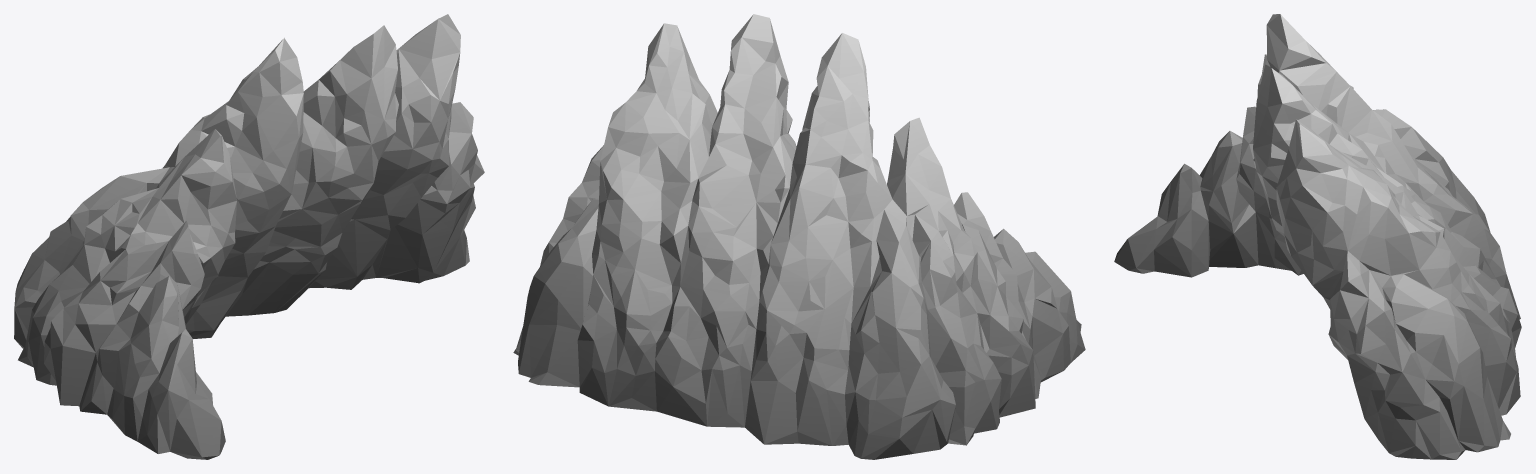
Rendered from mountain.glb.
3 renders of one model, left to right at view 1: azimuth 30°, elevation 25°; view 2: azimuth 150°, elevation 25°; view 3: azimuth 270°, elevation 25°, orthographic. The views are drawn at different scales.
Parts seen in each view (by area): view 1: mountain; view 2: mountain; view 3: mountain.
Part boxes in pixels (left/top/right/bottom): mountain: left=14, top=14, right=484, bottom=459; mountain: left=513, top=14, right=1085, bottom=459; mountain: left=1114, top=14, right=1521, bottom=459.
Size of the model in its own units: 35.25 by 23.65 by 26.93.
Materials: 1 (1 with a texture image).
